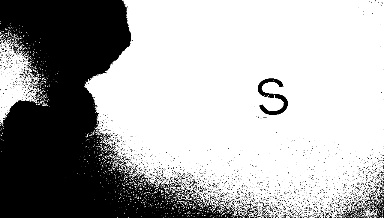S: (250, 72, 293, 117)
